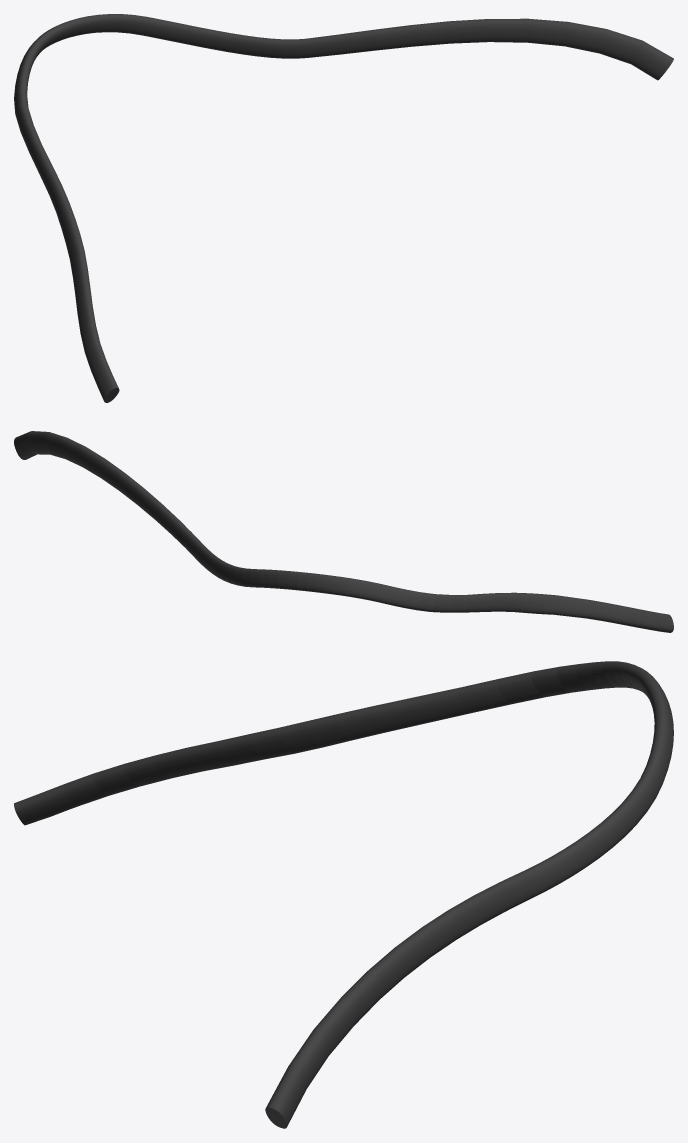
File: N_10_vagus_auricular.glb
3 views of the same model, one above another, from view 1: azimuth 30°, elevation 25°; view 2: azimuth 150°, elevation 25°; view 3: azimuth 270°, elevation 25° (orthographic). The views are drawn at different scales.
Visible parts, largest first — view 1: N_10_vagus_auricular; view 2: N_10_vagus_auricular; view 3: N_10_vagus_auricular.
Boxes of the visible parts, x1,y1,x2,y2 form: N_10_vagus_auricular: (14,14,673,402); N_10_vagus_auricular: (14,431,673,632); N_10_vagus_auricular: (14,661,673,1128).
Size of the model in its own units: 0.00742 by 0.00195 by 0.00443.
Materials: 1 (1 with a texture image).
